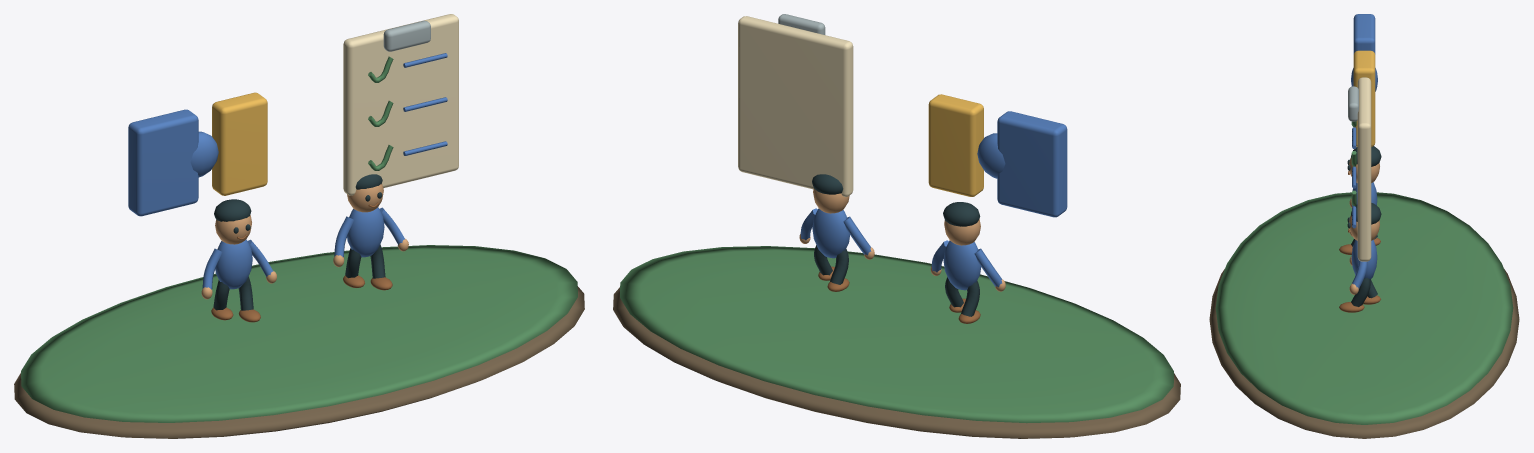
The model's file is complete-second-same-task.glb.
3 renders of one model, left to right at view 1: azimuth 30°, elevation 25°; view 2: azimuth 150°, elevation 25°; view 3: azimuth 270°, elevation 25°, orthographic. The views are drawn at different scales.
Visible parts, largest first — view 1: complete-second-same-task_surface_01, complete-second-same-task_surface_04, complete-second-same-task_surface_02, complete-second-same-task_surface_00, complete-second-same-task_surface_03, complete-second-same-task_surface_07, complete-second-same-task_surface_06, complete-second-same-task_surface_05, complete-second-same-task_surface_08; view 2: complete-second-same-task_surface_01, complete-second-same-task_surface_04, complete-second-same-task_surface_02, complete-second-same-task_surface_00, complete-second-same-task_surface_03, complete-second-same-task_surface_07, complete-second-same-task_surface_06, complete-second-same-task_surface_08, complete-second-same-task_surface_05; view 3: complete-second-same-task_surface_01, complete-second-same-task_surface_00, complete-second-same-task_surface_04, complete-second-same-task_surface_02, complete-second-same-task_surface_03, complete-second-same-task_surface_07, complete-second-same-task_surface_06, complete-second-same-task_surface_08, complete-second-same-task_surface_05.
Part boxes in pixels (left/top/right/bottom): complete-second-same-task_surface_01: left=21, top=56, right=577, bottom=422; complete-second-same-task_surface_04: left=343, top=14, right=458, bottom=195; complete-second-same-task_surface_02: left=128, top=53, right=447, bottom=289; complete-second-same-task_surface_00: left=14, top=286, right=584, bottom=438; complete-second-same-task_surface_03: left=212, top=92, right=267, bottom=195; complete-second-same-task_surface_07: left=213, top=174, right=385, bottom=310; complete-second-same-task_surface_06: left=201, top=183, right=408, bottom=299; complete-second-same-task_surface_05: left=383, top=20, right=430, bottom=51; complete-second-same-task_surface_08: left=211, top=202, right=392, bottom=322; complete-second-same-task_surface_01: left=620, top=246, right=1173, bottom=423; complete-second-same-task_surface_04: left=738, top=16, right=853, bottom=196; complete-second-same-task_surface_02: left=800, top=111, right=1067, bottom=290; complete-second-same-task_surface_00: left=613, top=287, right=1180, bottom=438; complete-second-same-task_surface_03: left=928, top=94, right=983, bottom=196; complete-second-same-task_surface_07: left=812, top=174, right=980, bottom=316; complete-second-same-task_surface_06: left=799, top=188, right=1005, bottom=291; complete-second-same-task_surface_08: left=818, top=266, right=980, bottom=323; complete-second-same-task_surface_05: left=778, top=14, right=825, bottom=34; complete-second-same-task_surface_01: left=1215, top=121, right=1513, bottom=424; complete-second-same-task_surface_00: left=1209, top=269, right=1519, bottom=438; complete-second-same-task_surface_04: left=1357, top=77, right=1371, bottom=261; complete-second-same-task_surface_02: left=1351, top=14, right=1377, bottom=289; complete-second-same-task_surface_03: left=1353, top=50, right=1375, bottom=146; complete-second-same-task_surface_07: left=1347, top=146, right=1381, bottom=306; complete-second-same-task_surface_06: left=1349, top=158, right=1379, bottom=294; complete-second-same-task_surface_08: left=1339, top=171, right=1380, bottom=312; complete-second-same-task_surface_05: left=1348, top=86, right=1358, bottom=121.
Bounding box in the file's own units: 4.56 × 2.53 × 2.5.
